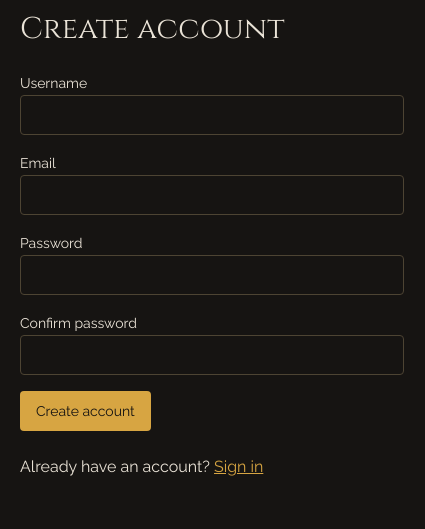
Test: shows username taken on 409
Type "alice" into the field labelled "Username".
click(212, 115); type("alice")  # box [20, 95, 404, 135]
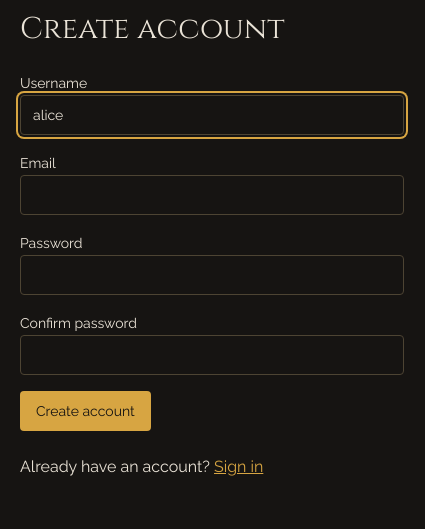
Type "alice@example.com" into the field labelled "Email".
click(212, 195); type("alice@example.com")  # box [20, 175, 404, 215]
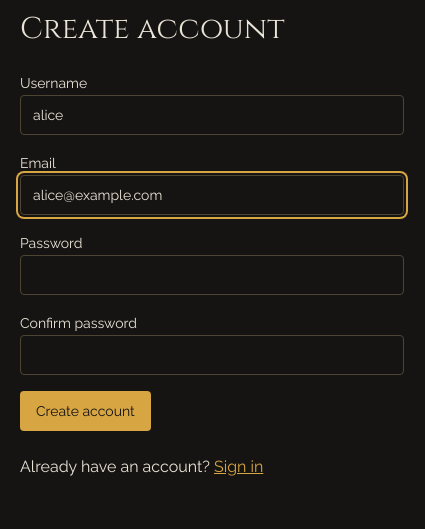
Type "pw1" into the password field labelled "Password".
click(212, 275); type("pw1")  # box [20, 255, 404, 295]
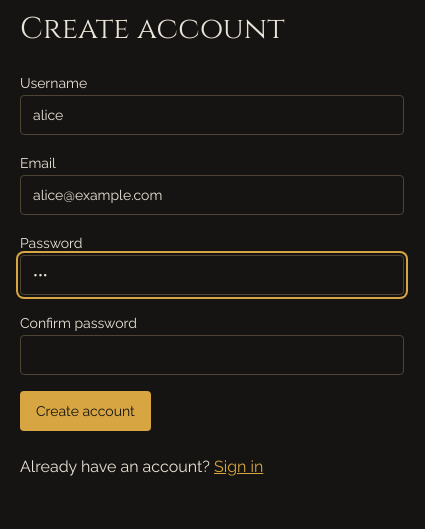
Type "pw1" into the password field labelled "Confirm password".
click(212, 355); type("pw1")  # box [20, 335, 404, 375]
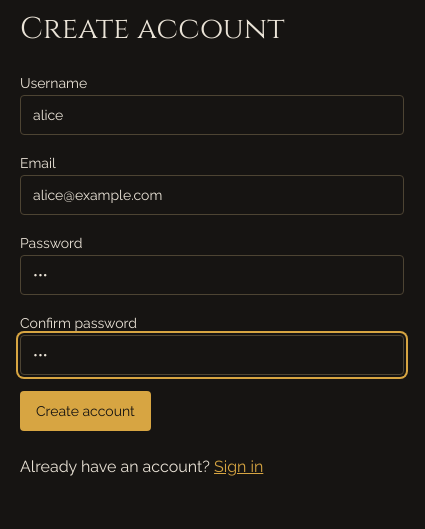
Click the button "Create account".
click(85, 411)  # box [20, 391, 151, 431]
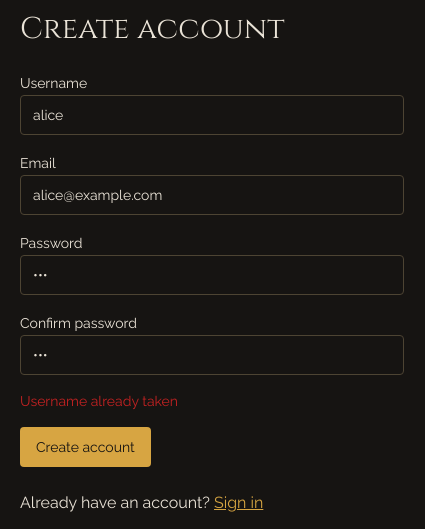
Now the text "Username already taken" is shown, box [20, 393, 178, 409]
